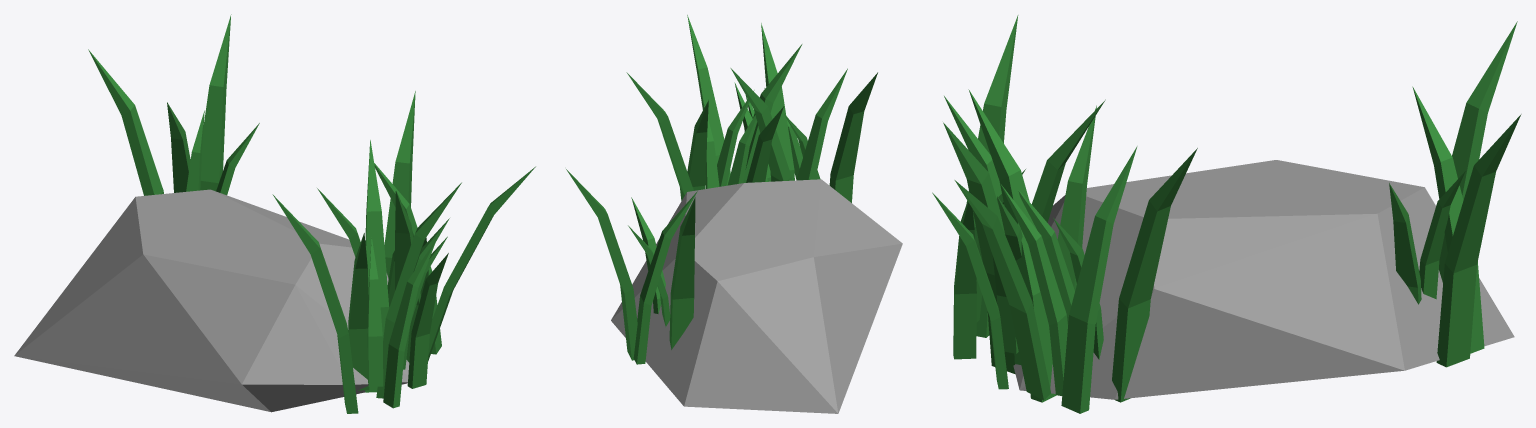
The model's file is stones_023.glb.
The picture shows the model from 3 angles, left to right: view 1: azimuth 30°, elevation 25°; view 2: azimuth 150°, elevation 25°; view 3: azimuth 270°, elevation 25°; orthographic projection. The views are drawn at different scales.
Parts seen in each view (by area): view 1: stones_023; view 2: stones_023; view 3: stones_023.
Part boxes in pixels (x1,y1,x2,y2): stones_023: (14,14,535,413); stones_023: (566,15,902,413); stones_023: (932,15,1521,413).
Size of the model in its own units: 2.22 by 1.51 by 2.55.
1 material, 1 textured.
